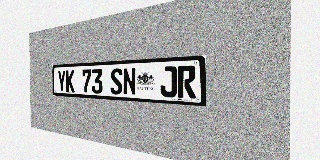3: (92, 69, 102, 94)
7: (82, 69, 91, 93)
J: (160, 66, 177, 98)
K: (66, 70, 74, 92)
N: (123, 68, 136, 96)
R: (177, 65, 196, 99)
S: (110, 68, 122, 95)
Y: (57, 70, 66, 92)
